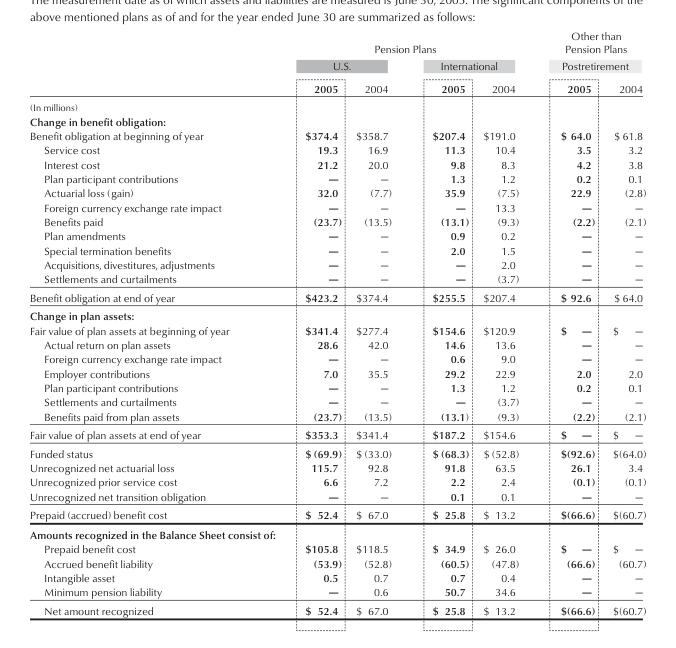table: (29, 29, 645, 616)
table column: (29, 29, 266, 616), (266, 29, 348, 616), (411, 29, 475, 616), (475, 29, 539, 616), (539, 29, 603, 616), (348, 29, 411, 616), (603, 29, 645, 616)
table column header: (29, 29, 645, 113)
table projected row header: (29, 524, 645, 541), (29, 306, 645, 322), (29, 113, 645, 128)
table row: (29, 76, 645, 113), (29, 29, 645, 57), (29, 57, 645, 76), (29, 505, 645, 524), (29, 288, 645, 306), (29, 425, 645, 443), (29, 271, 645, 288), (29, 443, 645, 460), (29, 524, 645, 541), (29, 584, 645, 601), (29, 306, 645, 322), (29, 409, 645, 425), (29, 489, 645, 505), (29, 113, 645, 128), (29, 156, 645, 171), (29, 199, 645, 214), (29, 242, 645, 257), (29, 322, 645, 337), (29, 365, 645, 380), (29, 394, 645, 409), (29, 474, 645, 489), (29, 555, 645, 570), (29, 601, 645, 616), (29, 128, 645, 142), (29, 142, 645, 156), (29, 171, 645, 185), (29, 185, 645, 199), (29, 214, 645, 228), (29, 228, 645, 242), (29, 257, 645, 271), (29, 337, 645, 351), (29, 351, 645, 365), (29, 380, 645, 394), (29, 460, 645, 474), (29, 541, 645, 555), (29, 570, 645, 584)
table spanning cell: (29, 29, 266, 113), (266, 29, 539, 57), (539, 29, 645, 76), (266, 57, 411, 76), (411, 57, 539, 76)
